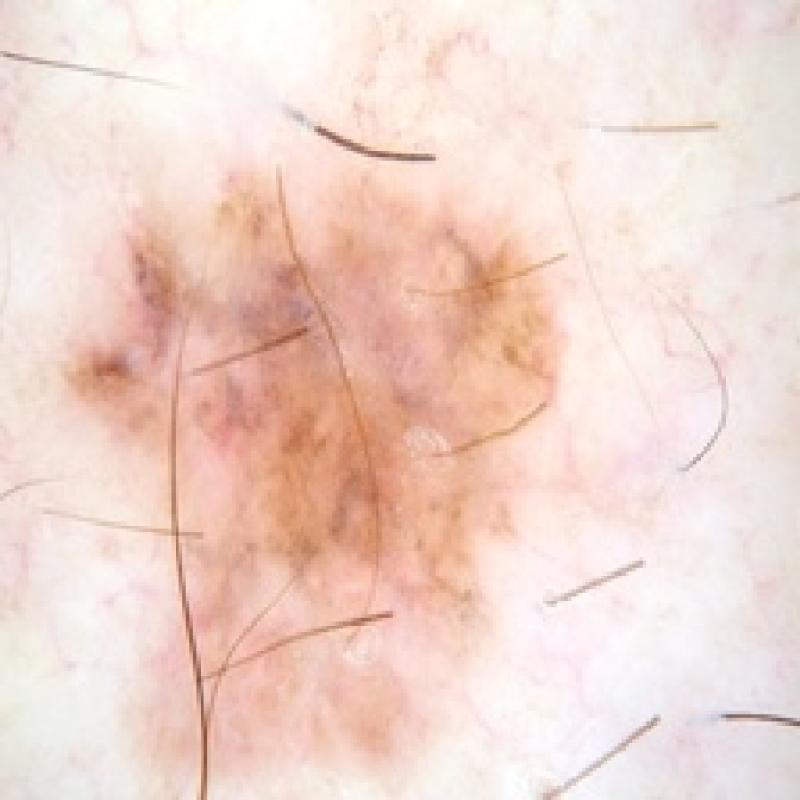malignant: (54, 152, 572, 762)
